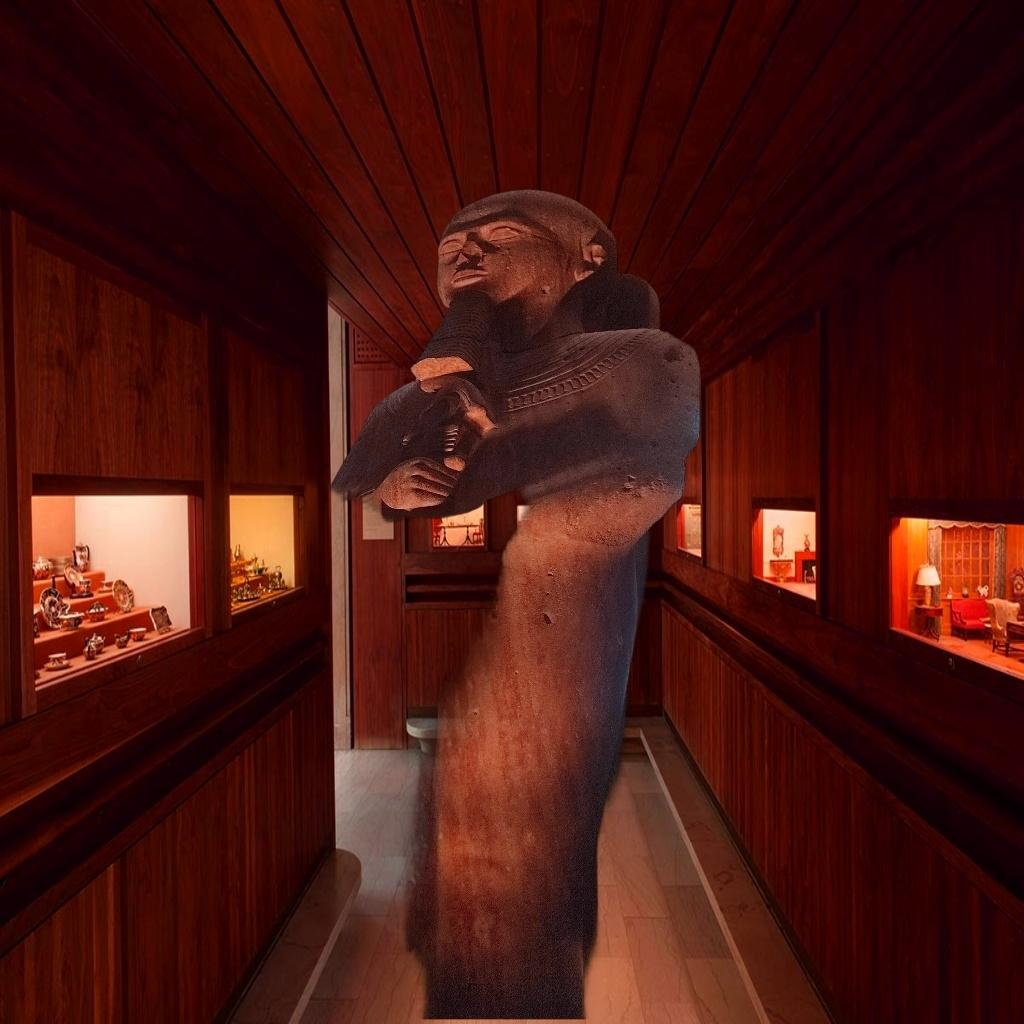Colossal Statue of God Ptah: (303, 184, 711, 1020)
